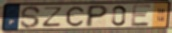0: (111, 5, 128, 27)
C: (65, 6, 85, 28)
E: (130, 3, 153, 27)
P: (84, 4, 110, 28)
S: (20, 5, 43, 30)
Z: (41, 6, 65, 28)
